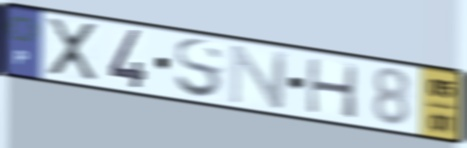4: (105, 27, 149, 91)
8: (369, 65, 413, 130)
H: (305, 55, 361, 122)
N: (227, 43, 291, 111)
S: (172, 37, 225, 102)
X: (45, 15, 101, 83)
